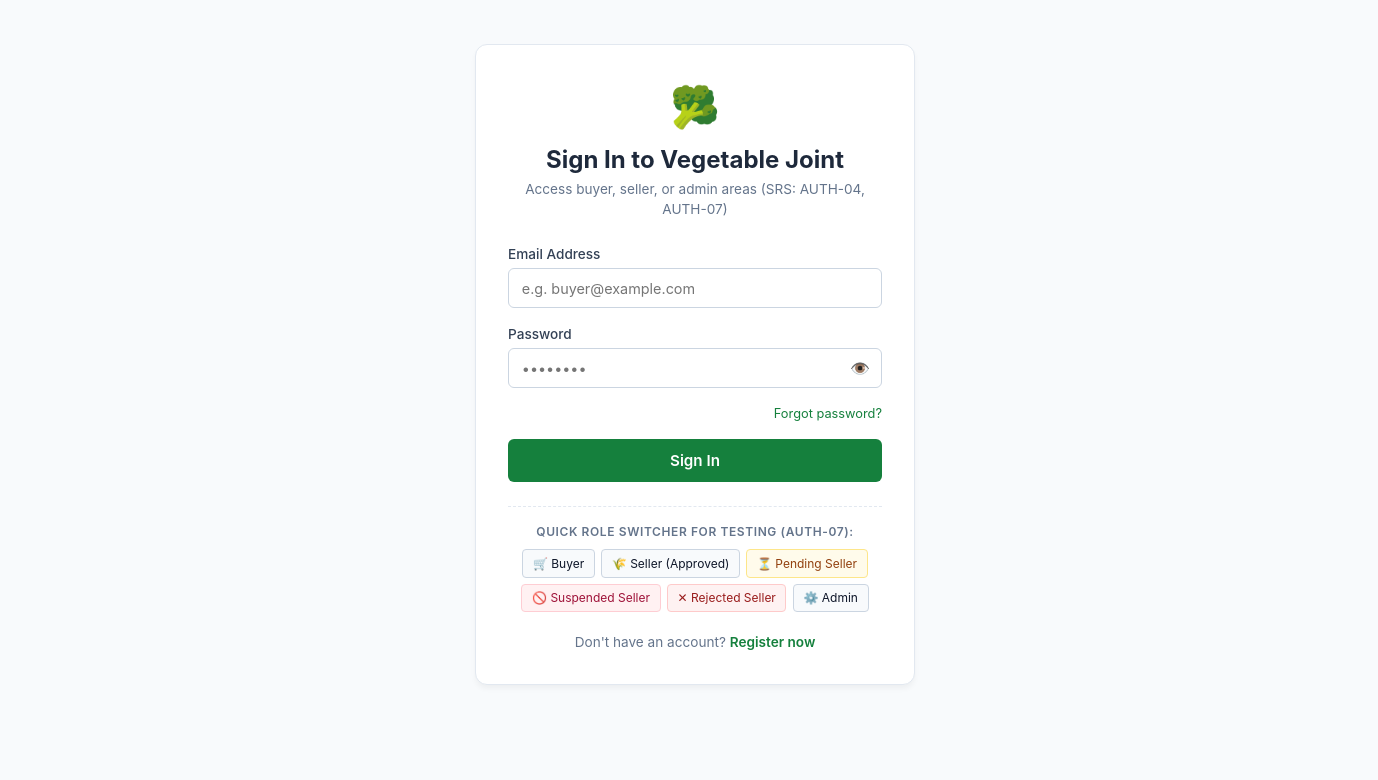
Test: Login Page (FE-065 / AUTH-04, AUTH-09, AUTH-13) › Role-based redirect after login (AUTH-13) › redirects a buyer to the home page by default
The width and height of the screenshot is (1378, 780).
Type "buyer@example.com" into the field with test id "login-email-input" at [695, 288], box [508,268,882,308]
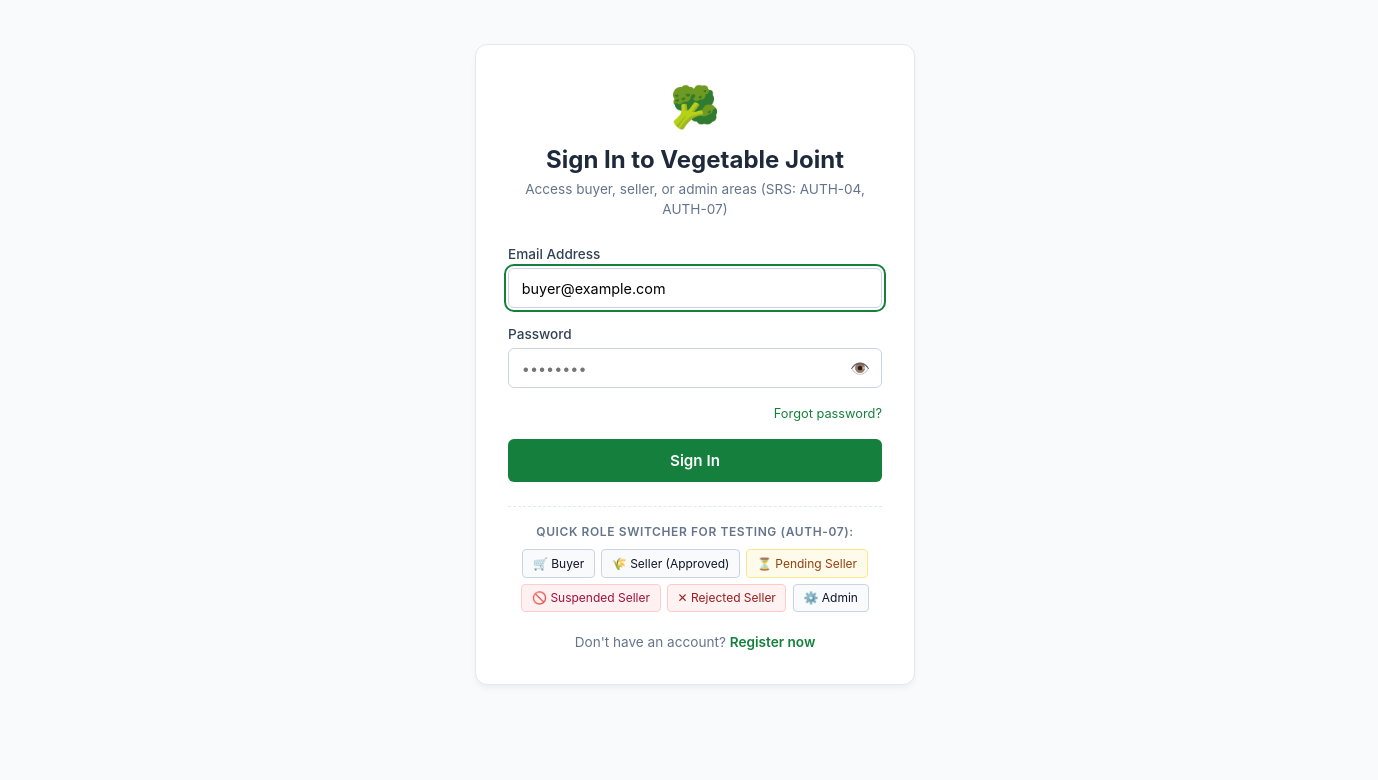
Type "password123" into the password field with test id "login-password-input" at [695, 368], box [508,348,882,388]
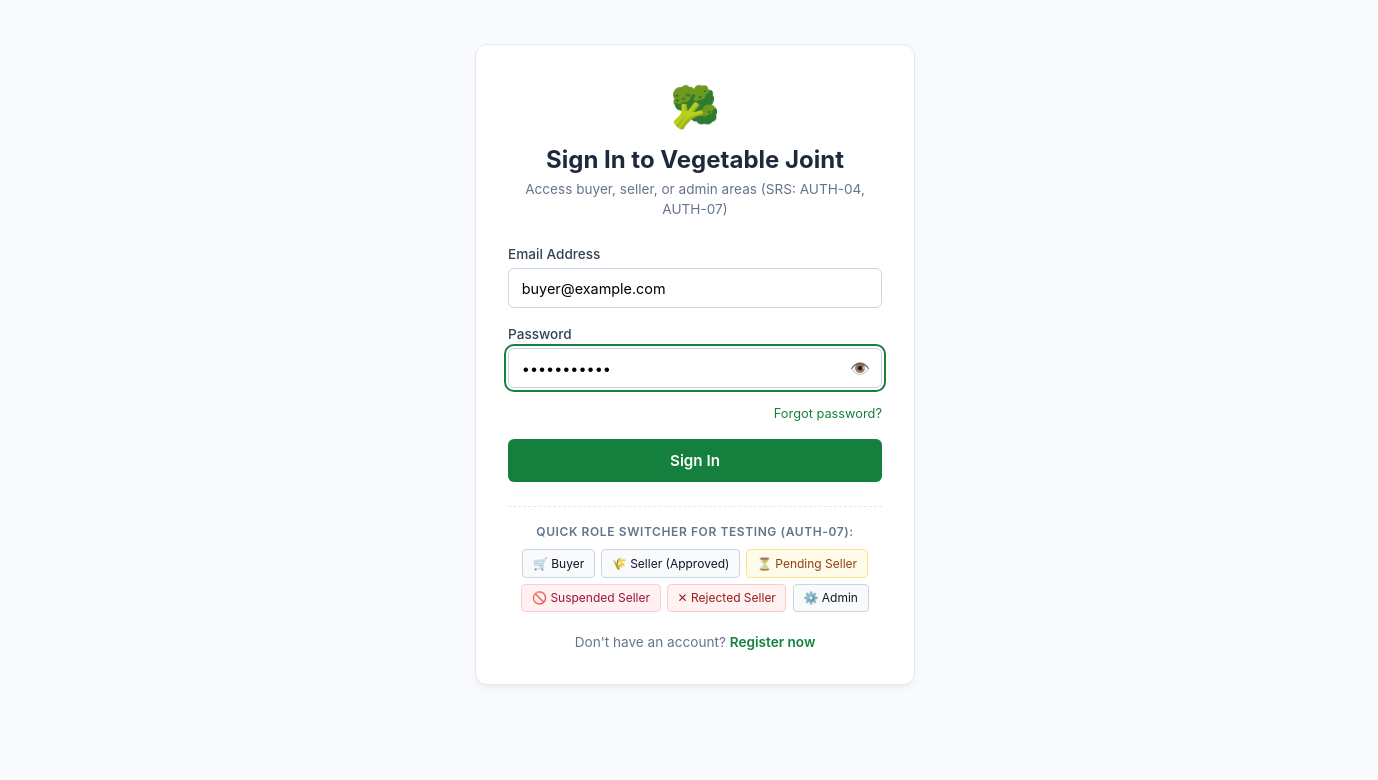
Click the button with test id "login-submit-btn" at [695, 461], box [508,439,882,482]
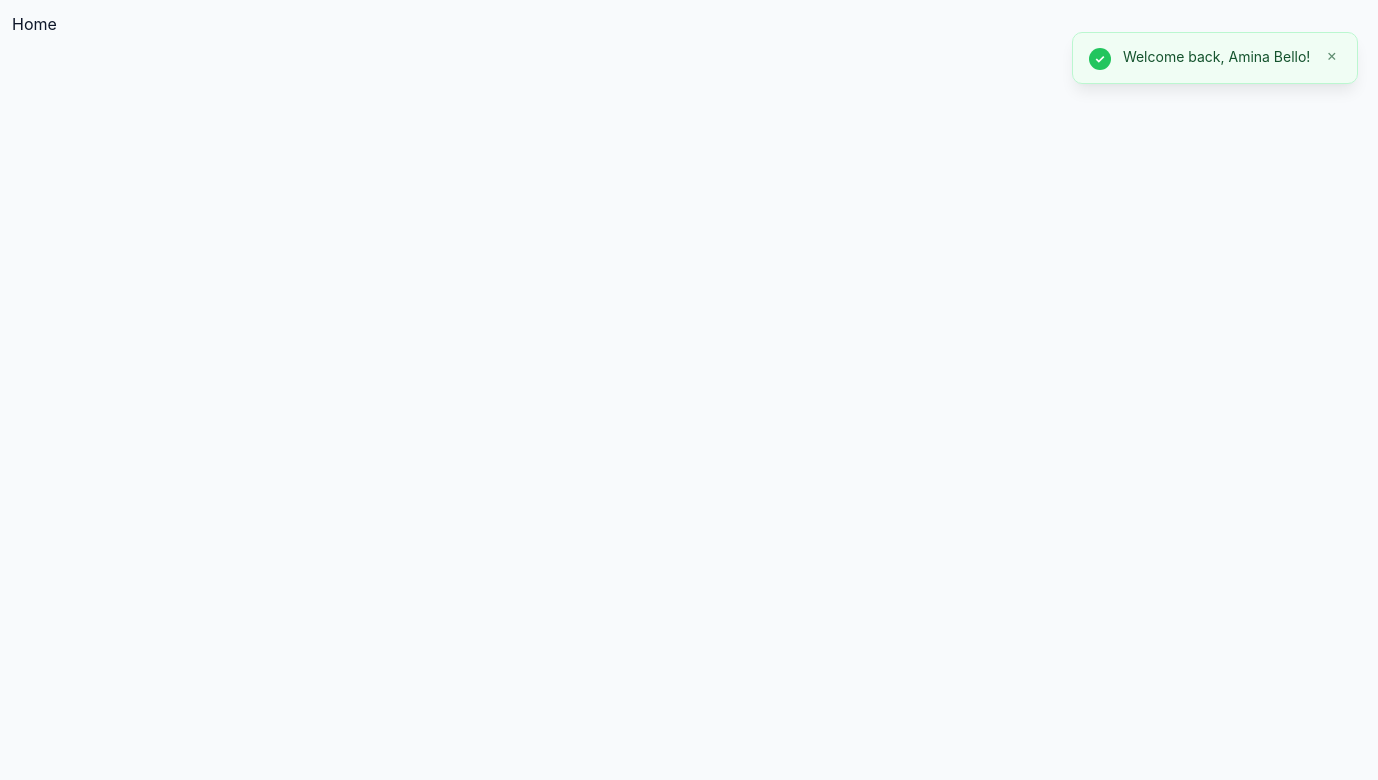
Check: the text "Home" is shown, box [12,14,57,34]
